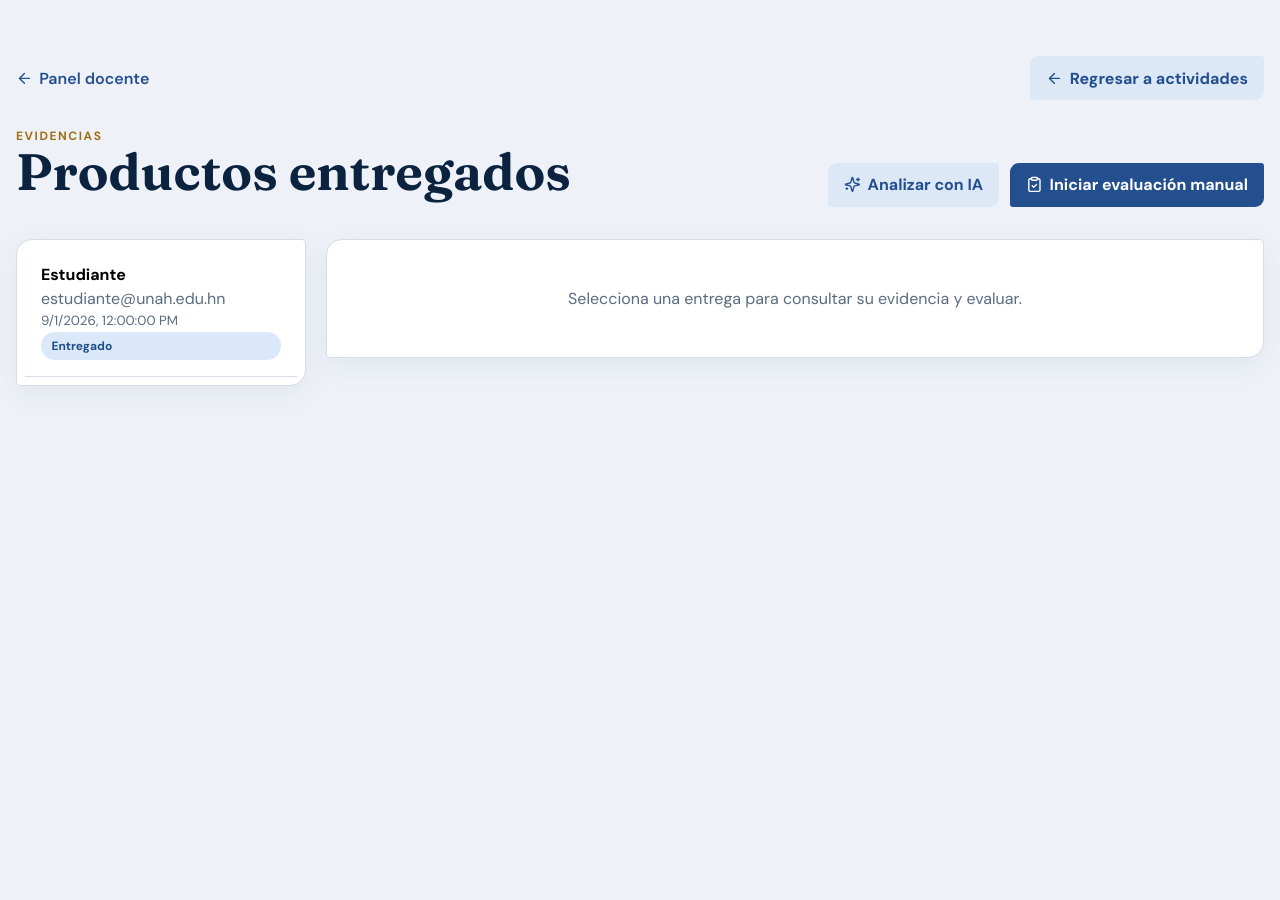
Test: TeacherSubmissionsView - resumen de prompts › informa correctamente cuando un lote queda analizado solo de forma parcial
Click the button "Analizar con IA" at (913, 185), box [828,163,999,207]
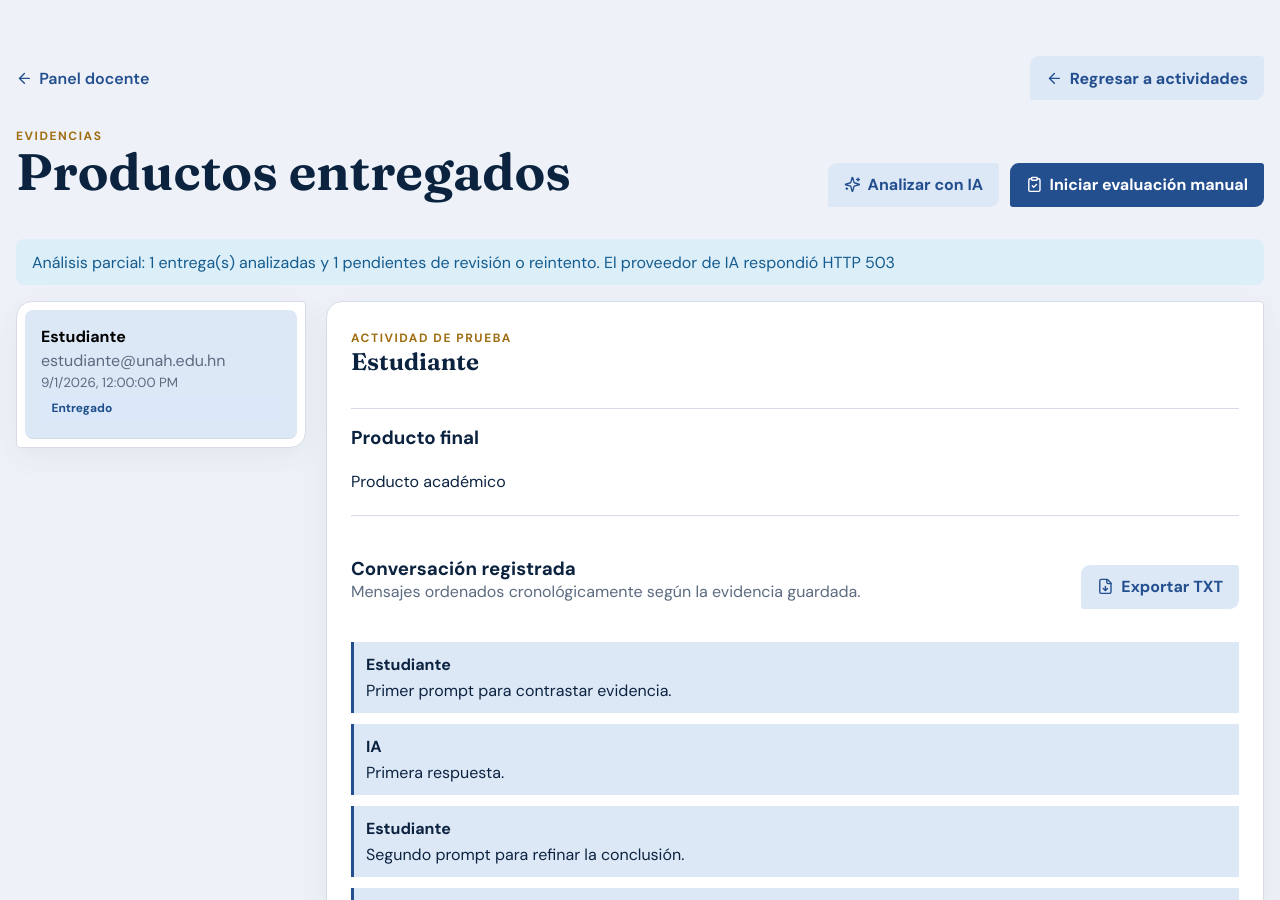
Check: the text "Análisis parcial: 1 entrega(s) analizadas y 1 pendientes" is shown, box [32,252,895,273]
Check: the text "HTTP 503" is shown, box [32,252,895,273]
